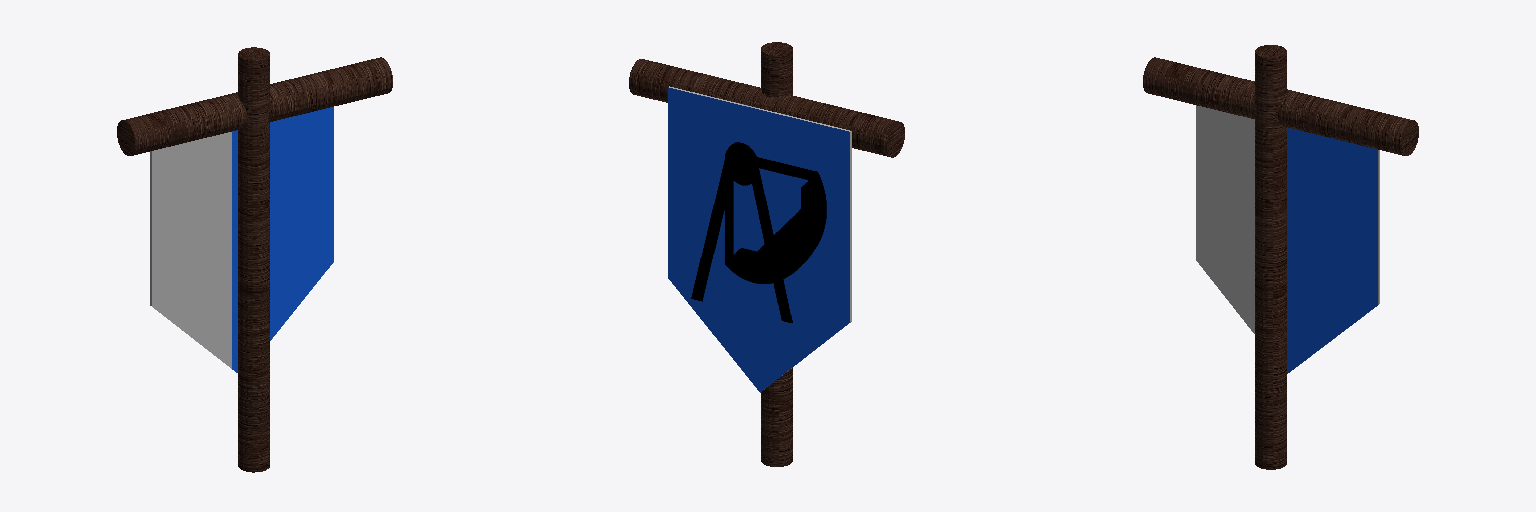
The picture shows the model from 3 angles: view 1: azimuth 30°, elevation 25°; view 2: azimuth 150°, elevation 25°; view 3: azimuth 330°, elevation 25°; orthographic projection.
Parts seen in each view (by area): view 1: estandarte_brinquedos_group polySurface56 polySurface1; view 2: estandarte_brinquedos_group polySurface56 polySurface1; view 3: estandarte_brinquedos_group polySurface56 polySurface1.
Boxes of the visible parts, box(x1,y1,x2,y2) form: estandarte_brinquedos_group polySurface56 polySurface1: box(117, 47, 392, 472); estandarte_brinquedos_group polySurface56 polySurface1: box(629, 42, 904, 466); estandarte_brinquedos_group polySurface56 polySurface1: box(1143, 45, 1418, 469).
Bounding box in the file's own units: 0.3165 × 0.4824 × 0.0497.
Materials: 1 (1 with a texture image).